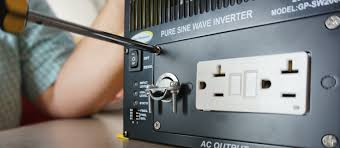outlet: (260, 58, 300, 102), (197, 64, 228, 100)
